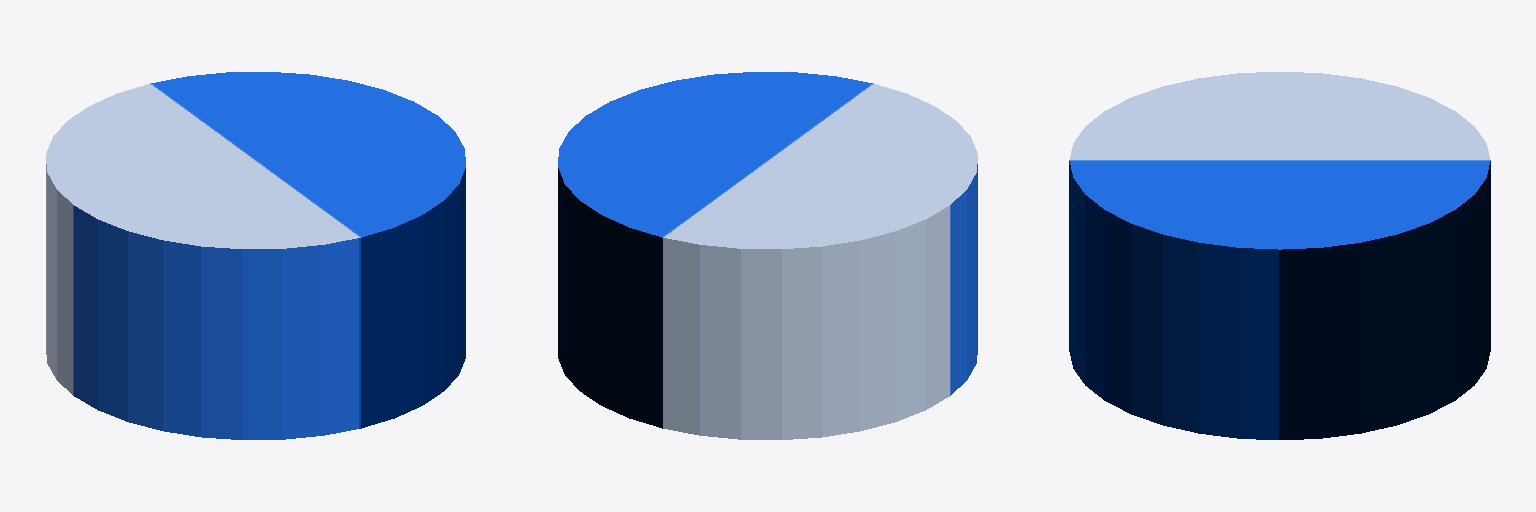
3 views of the same model, side by side, from view 1: azimuth 30°, elevation 25°; view 2: azimuth 150°, elevation 25°; view 3: azimuth 270°, elevation 25° (orthographic).
Size of the model in its own units: 2 by 1 by 2.
1 materials, 1 textured.